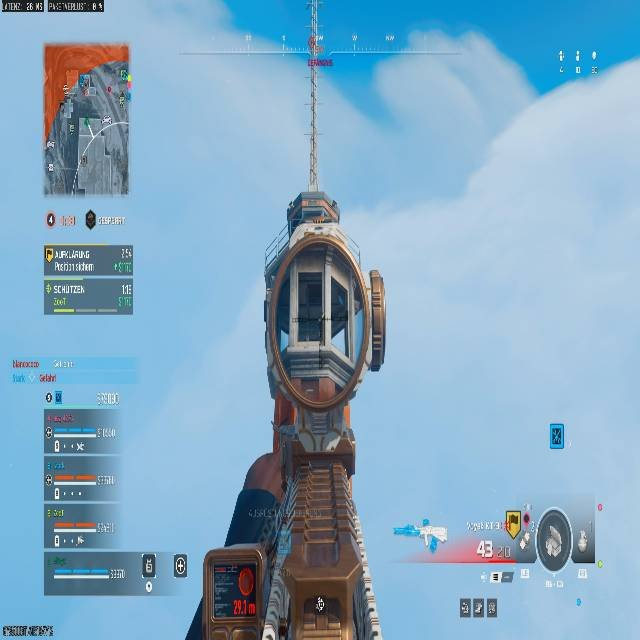head: (262, 191, 385, 431), (286, 190, 342, 231)
player: (190, 191, 408, 640)
